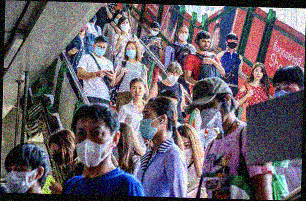with_mask: (73, 123, 113, 168), (5, 162, 39, 193), (195, 99, 227, 130), (139, 107, 163, 139), (49, 144, 71, 167), (94, 42, 108, 57), (167, 70, 180, 84), (126, 44, 138, 59), (119, 19, 132, 32), (177, 29, 189, 42), (226, 38, 238, 50), (150, 27, 160, 36)
without_mask: (130, 84, 145, 100), (198, 38, 211, 51), (253, 67, 265, 80)
